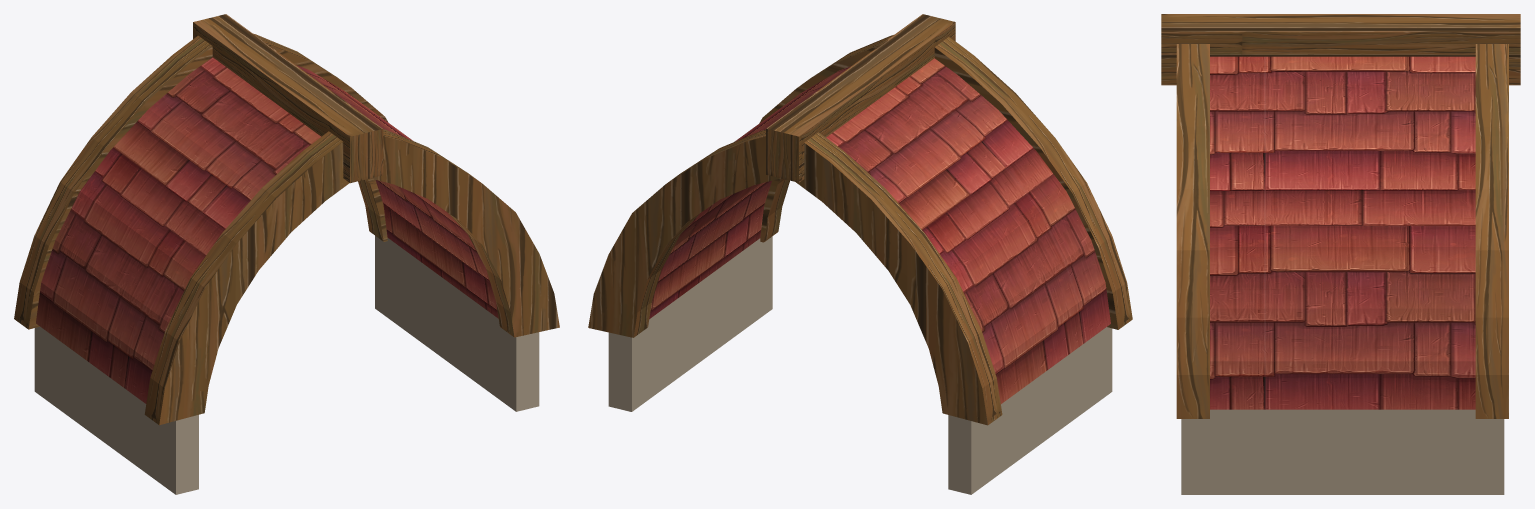
Rendered from rock sheld.fbx.
3 views of the same model, side by side, from view 1: azimuth 30°, elevation 25°; view 2: azimuth 150°, elevation 25°; view 3: azimuth 270°, elevation 25° (orthographic). The views are drawn at different scales.
Visible parts, largest first — view 1: Cube.494, Cube.496, Cube.492, Cube.493, Cube.495, Cube.497; view 2: Cube.494, Cube.495, Cube.492, Cube.493, Cube.496, Cube.497; view 3: Cube.494, Cube.492, Cube.497, Cube.495, Cube.496.
Part boxes in pixels (x1,y1,x2,y2): Cube.494: (36, 57, 498, 403); Cube.496: (144, 129, 559, 425); Cube.492: (375, 236, 539, 411); Cube.493: (34, 326, 198, 494); Cube.495: (14, 33, 387, 329); Cube.497: (193, 14, 383, 183); Cube.494: (649, 58, 1110, 403); Cube.495: (588, 129, 1002, 425); Cube.492: (608, 236, 772, 411); Cube.493: (948, 327, 1112, 494); Cube.496: (759, 35, 1132, 329); Cube.497: (766, 14, 955, 182); Cube.494: (1210, 56, 1475, 409); Cube.492: (1181, 409, 1504, 494); Cube.497: (1161, 14, 1520, 85); Cube.495: (1475, 44, 1508, 418); Cube.496: (1176, 44, 1209, 418).
Bounding box in the file's own units: 2423 × 1872 × 1644.
